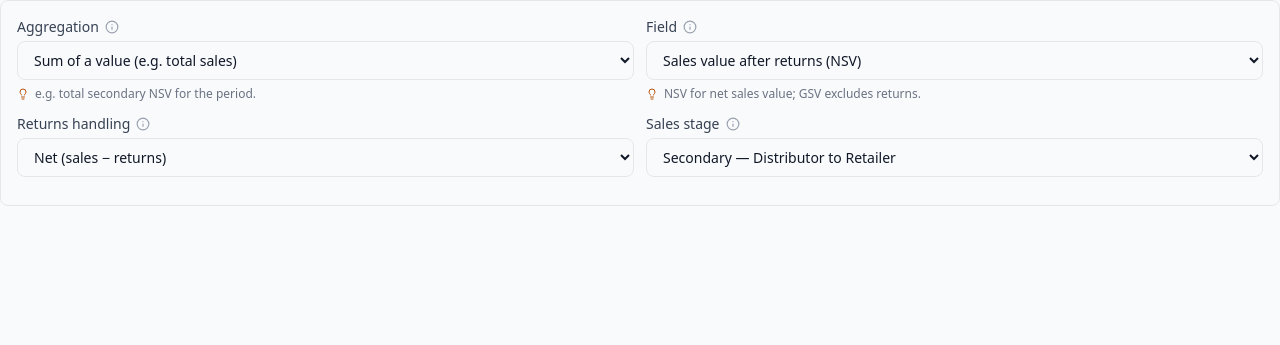
it: MeasurementBuilder aggregation switching › moves the field back to an amount when leaving a distinct count
Select "Count of distinct values (e.g. outlets, bills, SKUs)" in the dropdown named "Aggregation" at x=326, y=60, box [17,41,634,80]
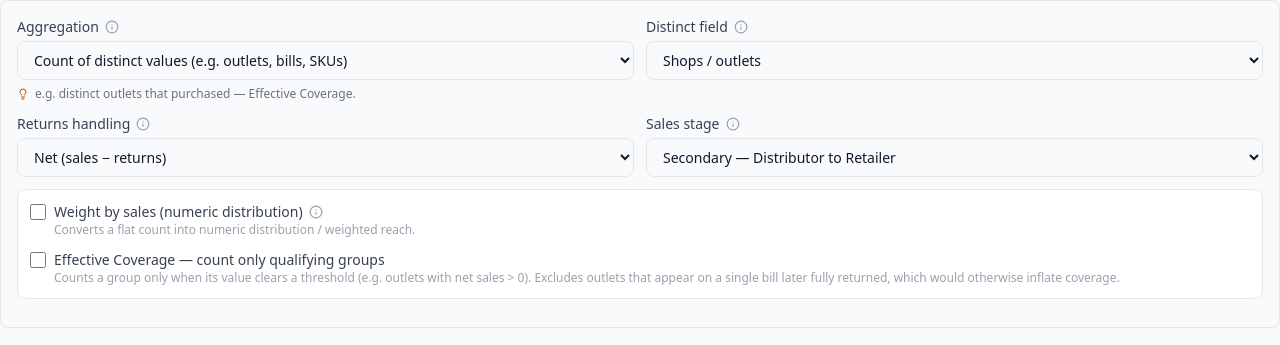
Select "Sum of a value (e.g. total sales)" in the dropdown named "Aggregation" at x=326, y=60, box [17,41,634,80]
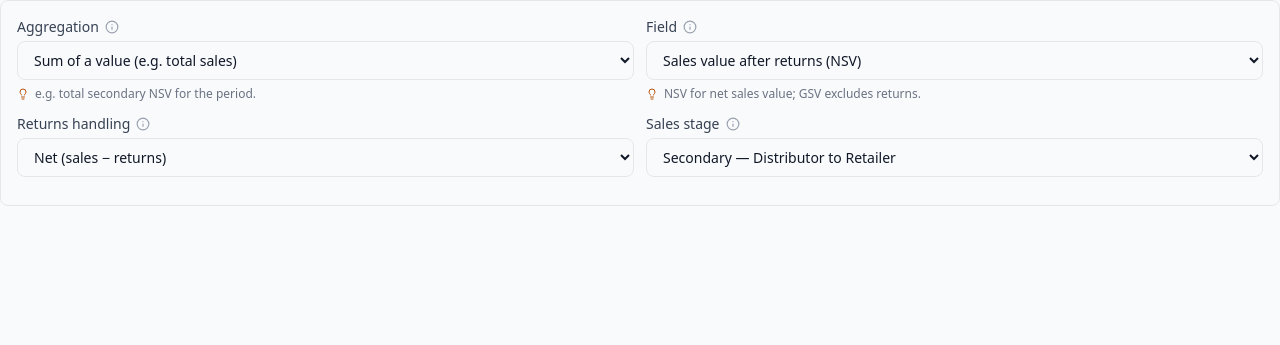
Check: the dropdown named "Field" shows "Sales value after returns (NSV)", box [646,41,1263,80]
